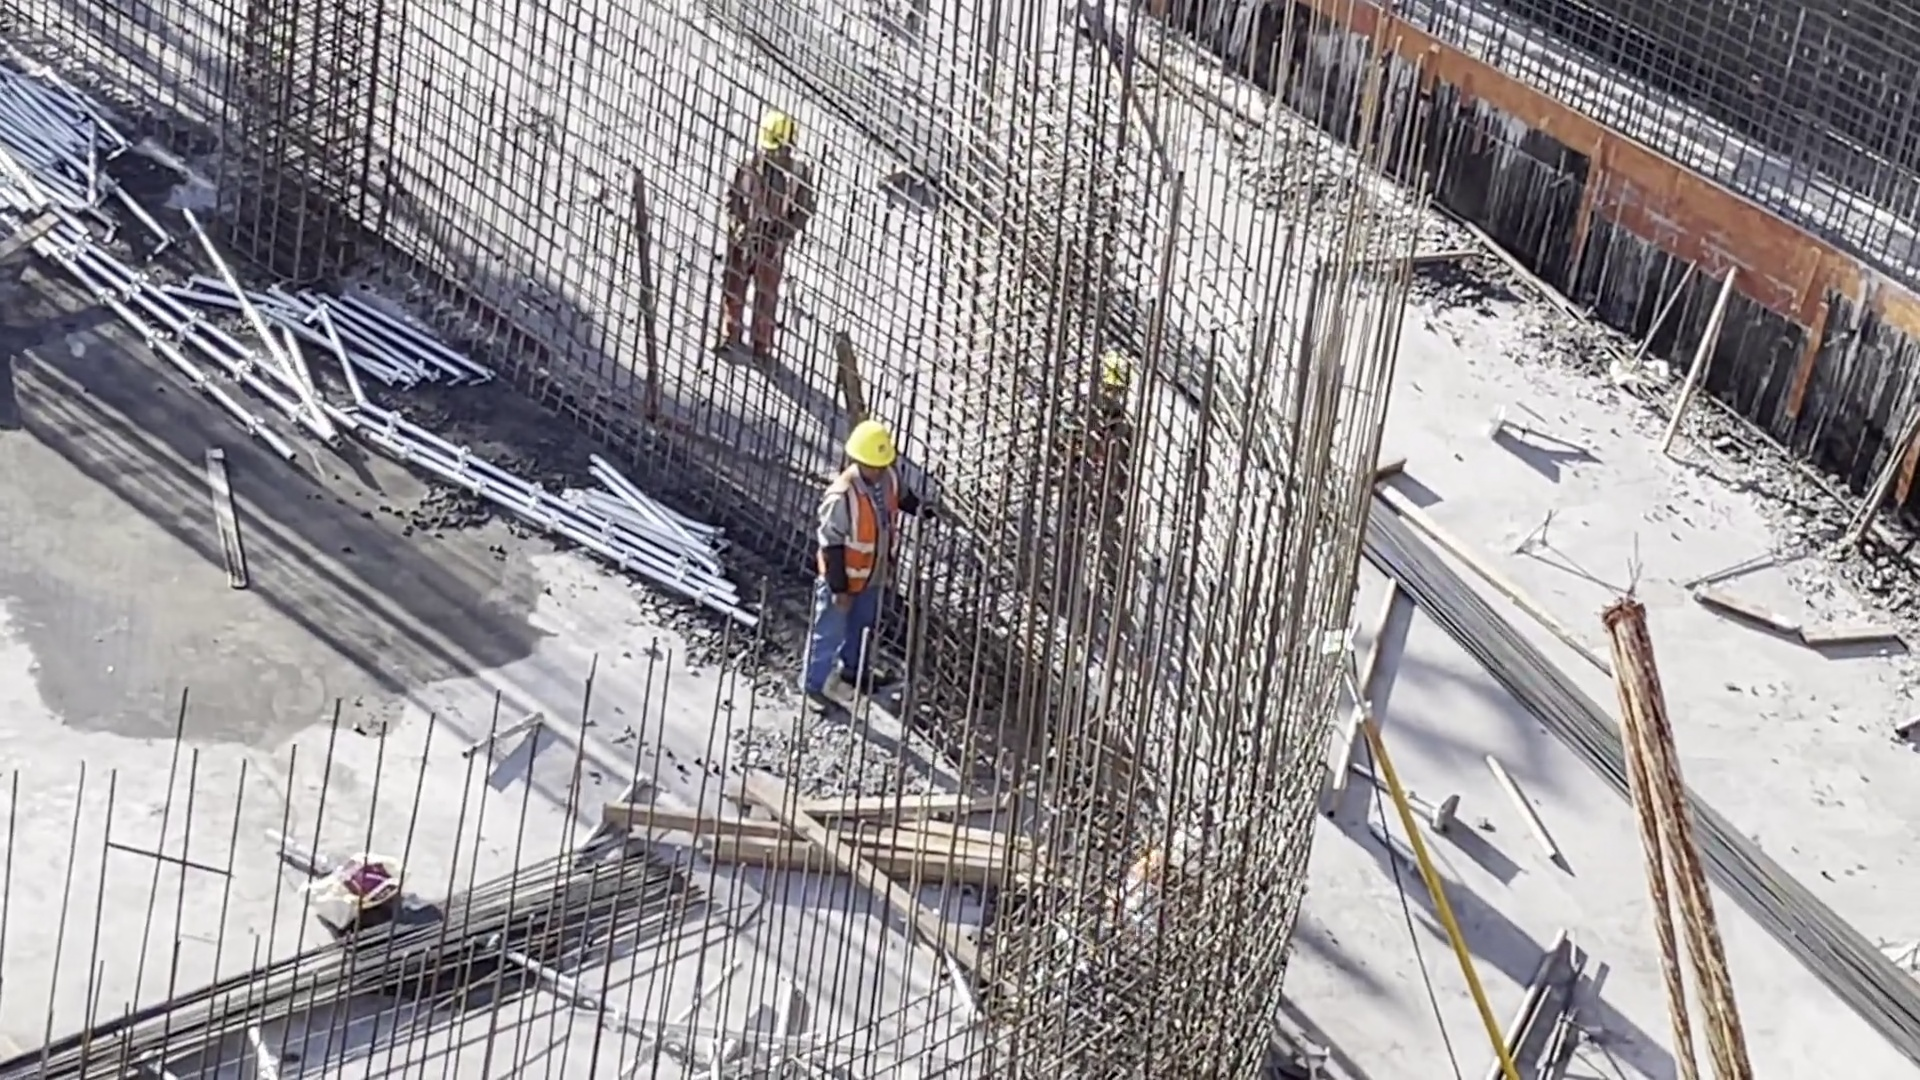helmet: (1169, 819, 1233, 869), (855, 419, 912, 468), (763, 109, 799, 152), (1096, 365, 1133, 398)
person: (718, 85, 841, 350), (819, 415, 923, 724), (1048, 348, 1162, 601), (1111, 812, 1225, 931)
rebar: (1354, 504, 1920, 1075), (37, 846, 678, 1078)
scaffold: (219, 266, 482, 413), (544, 462, 756, 635), (1, 93, 137, 211)
vest: (831, 477, 923, 596), (738, 150, 808, 272), (1070, 408, 1128, 536), (1112, 845, 1197, 907)
